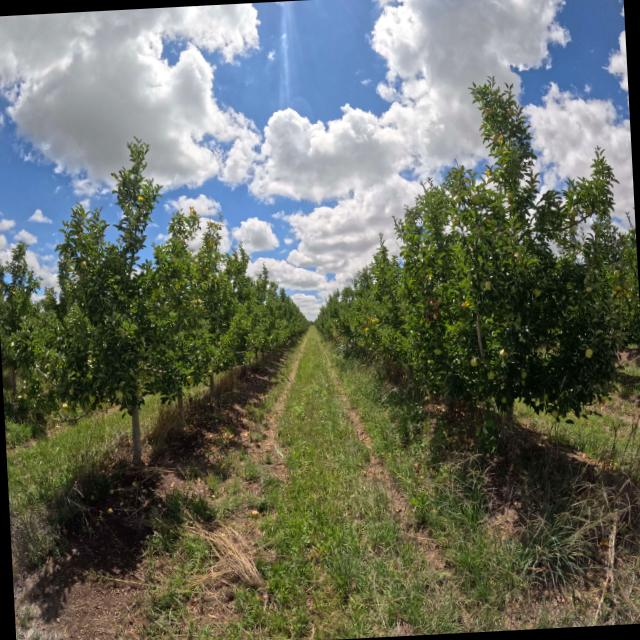-FireBlight-: (426, 297, 440, 324), (435, 291, 438, 297), (424, 290, 428, 293)
